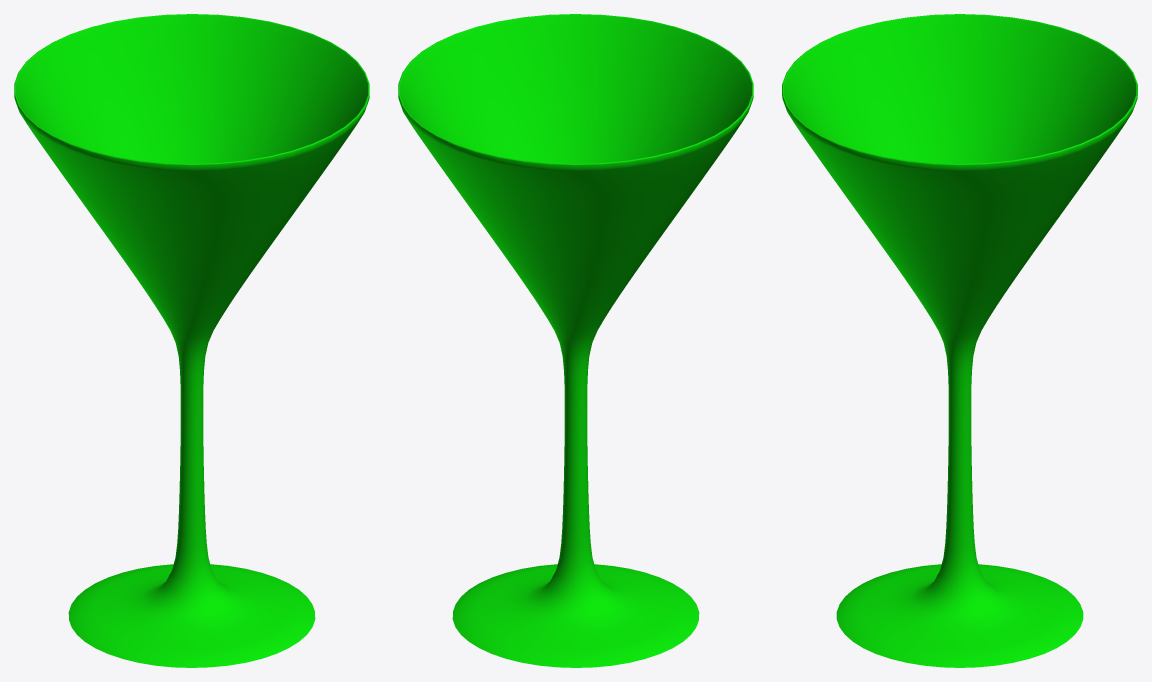
File: Glass4_LOD_0.fbx
3 views of the same model, side by side, from view 1: azimuth 30°, elevation 25°; view 2: azimuth 150°, elevation 25°; view 3: azimuth 270°, elevation 25° (orthographic).
Visible parts, largest first — view 1: Glass4_LOD_0; view 2: Glass4_LOD_0; view 3: Glass4_LOD_0.
Boxes of the visible parts, x1,y1,x2,y2 form: Glass4_LOD_0: (14,14,369,667); Glass4_LOD_0: (398,14,753,667); Glass4_LOD_0: (782,14,1137,667).
Size of the model in its own units: 3.06 by 5 by 3.05.
